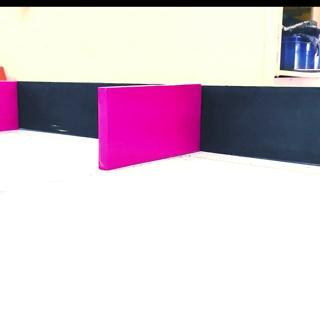xparking: (99, 85, 200, 157), (1, 81, 17, 132)
